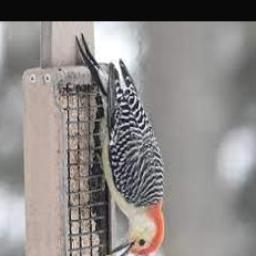Woodpecker: (75, 34, 164, 256)
